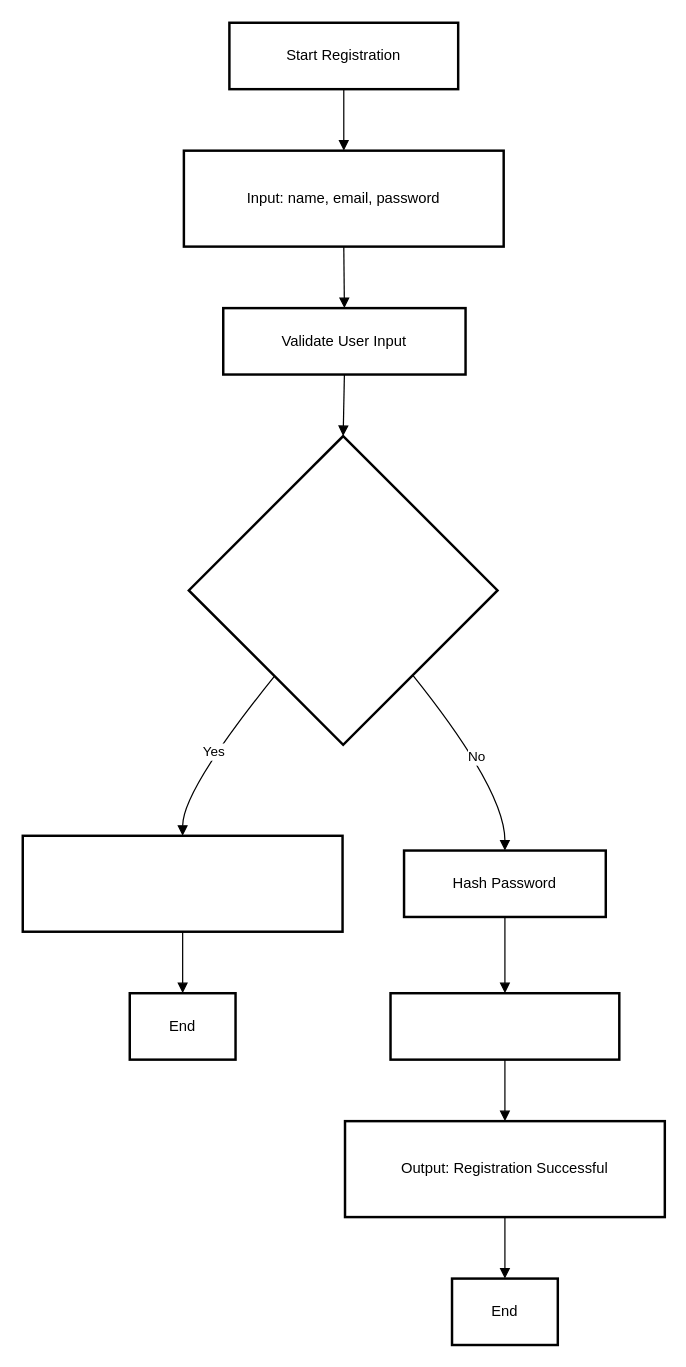
This 686x1367 diagram has some shape labels left out. The centre of each missing label's shape, as x and y in pixels:
Create User in DB: [504,1025]
Display Error: Email Already Exists: [182,883]
Is email already registered?: [342,589]
